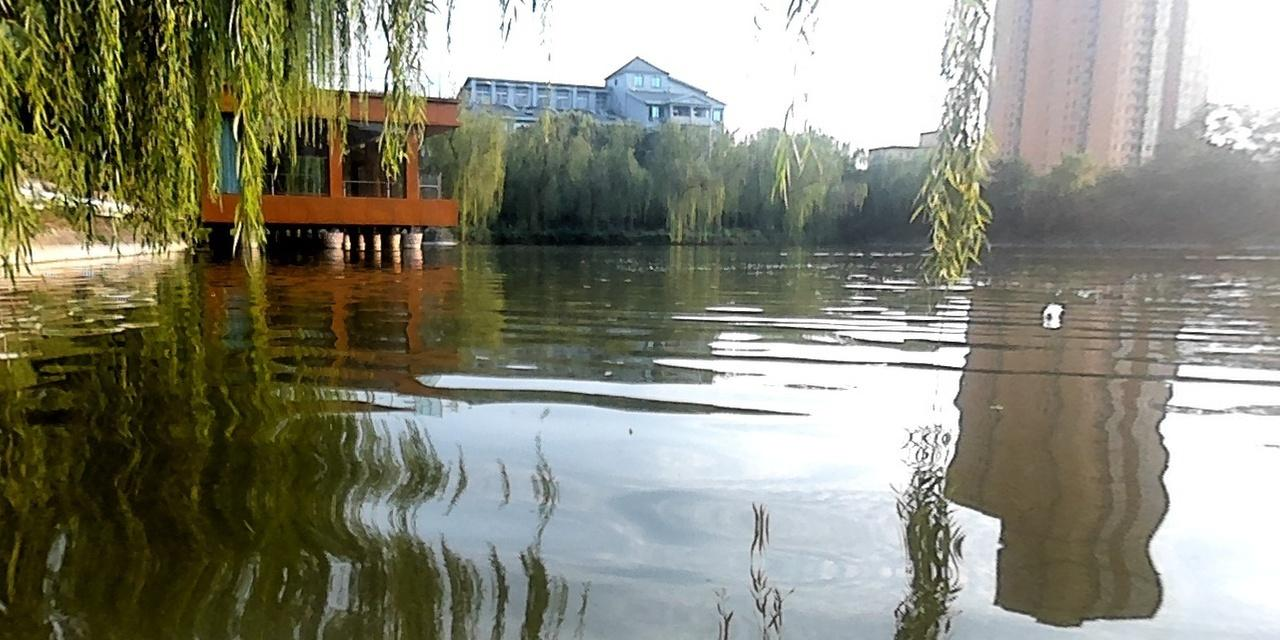bottle: (1040, 300, 1064, 322)
